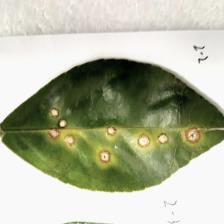canker: (42, 100, 208, 170)
